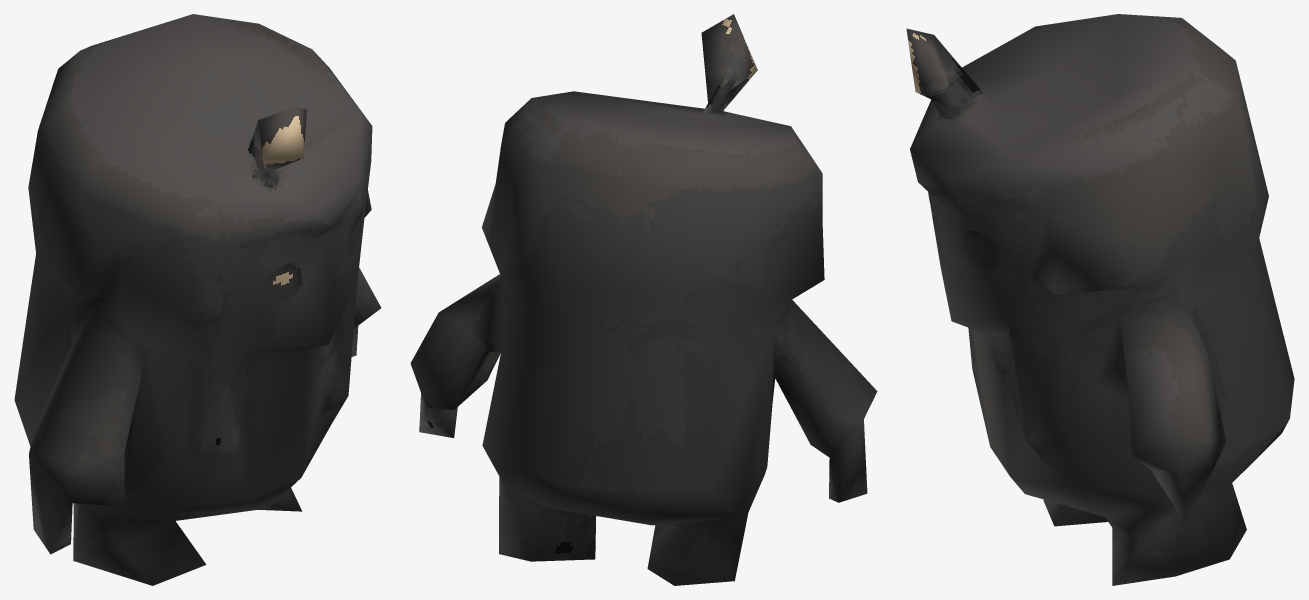
Rendered from enemy_mender.glb.
The picture shows the model from 3 angles, left to right: view 1: azimuth 30°, elevation 25°; view 2: azimuth 150°, elevation 25°; view 3: azimuth 270°, elevation 25°; orthographic projection. The views are drawn at different scales.
Visible parts, largest first — view 1: enemy_mender; view 2: enemy_mender; view 3: enemy_mender.
Part boxes in pixels (x1,y1,x2,y2): enemy_mender: (14,14,381,585); enemy_mender: (410,14,877,585); enemy_mender: (906,14,1294,585).
Size of the model in its own units: 0.7173 by 0.8647 by 0.599.
Materials: 1 (1 with a texture image).
